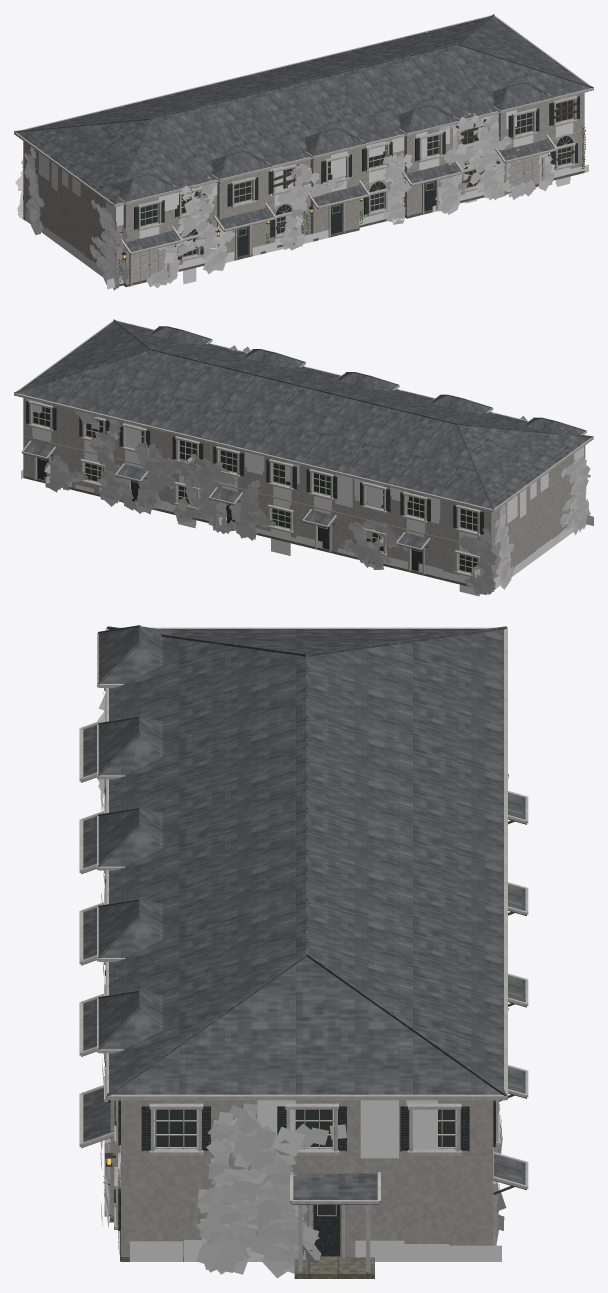
File: kit_row5_intact_v2.glb
The picture shows the model from 3 angles, top to bottom: view 1: azimuth 30°, elevation 25°; view 2: azimuth 150°, elevation 25°; view 3: azimuth 270°, elevation 25°; orthographic projection. The views are drawn at different scales.
Visible parts, largest first — view 1: kit_row5_intact_Ivy, Roof_Left_Shingled.002, Unit_01_Batched.001, Roof_Middle_Shingled.003, Roof_Middle_Shingled.004, Roof_Middle_Shingled.005, Roof_Right_Shingled.004, kit_row5_intact_Grime, Unit_03_Batched.001, Unit_02_Batched.001, Unit_02_Batched.002, Unit_RightEnd_Base_DamageReady_Batched.002 (+13 smaller); view 2: kit_row5_intact_Ivy, Roof_Left_Shingled.002, Unit_01_Batched.001, Roof_Middle_Shingled.003, Roof_Middle_Shingled.004, Roof_Middle_Shingled.005, Roof_Right_Shingled.004, kit_row5_intact_Grime, Unit_RightEnd_Base_DamageReady_Batched.002, Unit_02_Batched.001, Unit_03_Batched.001, Unit_02_Batched.002 (+10 smaller); view 3: Roof_Right_Shingled.004, Roof_Middle_Shingled.004, Roof_Middle_Shingled.003, Roof_Middle_Shingled.005, Unit_RightEnd_Base_DamageReady_Batched.002, Roof_Left_Shingled.002, kit_row5_intact_Ivy, kit_row5_intact_Grime, Right_Stucco_Frame.001_INTACT.002, Roof_Right_Eave_Trim.004, Projecting_Bay_Shingle_Cap.007, Projecting_Bay_Shingle_Cap.008 (+15 smaller).
Boxes of the visible parts, <box> form: kit_row5_intact_Ivy: <box>15,32,555,290</box>; Roof_Left_Shingled.002: <box>16,108,212,204</box>; Unit_01_Batched.001: <box>23,141,211,287</box>; Roof_Middle_Shingled.003: <box>114,85,306,180</box>; Roof_Middle_Shingled.004: <box>209,62,399,157</box>; Roof_Middle_Shingled.005: <box>302,39,493,134</box>; Roof_Right_Shingled.004: <box>396,16,590,111</box>; kit_row5_intact_Grime: <box>25,110,588,289</box>; Unit_03_Batched.001: <box>303,140,397,241</box>; Unit_02_Batched.001: <box>210,161,304,260</box>; Unit_02_Batched.002: <box>397,117,486,218</box>; Unit_RightEnd_Base_DamageReady_Batched.002: <box>495,102,557,194</box>; kit_row5_intact_Ivy: <box>44,345,590,594</box>; Roof_Left_Shingled.002: <box>395,413,590,508</box>; Unit_01_Batched.001: <box>396,446,590,587</box>; Roof_Middle_Shingled.003: <box>301,390,492,485</box>; Roof_Middle_Shingled.004: <box>208,367,399,462</box>; Roof_Middle_Shingled.005: <box>114,345,305,439</box>; Roof_Right_Shingled.004: <box>16,321,212,416</box>; kit_row5_intact_Grime: <box>21,398,593,596</box>; Unit_RightEnd_Base_DamageReady_Batched.002: <box>21,398,116,496</box>; Unit_02_Batched.001: <box>302,466,397,569</box>; Unit_03_Batched.001: <box>208,443,303,546</box>; Unit_02_Batched.002: <box>115,421,210,522</box>; Roof_Right_Shingled.004: <box>109,943,505,1094</box>; Roof_Middle_Shingled.004: <box>109,760,503,907</box>; Roof_Middle_Shingled.003: <box>109,669,503,815</box>; Roof_Middle_Shingled.005: <box>109,852,503,998</box>; Unit_RightEnd_Base_DamageReady_Batched.002: <box>79,1053,528,1278</box>; Roof_Left_Shingled.002: <box>109,629,503,724</box>; kit_row5_intact_Ivy: <box>97,692,509,1278</box>; kit_row5_intact_Grime: <box>130,1100,501,1261</box>; Right_Stucco_Frame.001_INTACT.002: <box>127,1100,225,1256</box>; Roof_Right_Eave_Trim.004: <box>106,941,507,1100</box>; Projecting_Bay_Shingle_Cap.007: <box>98,626,176,683</box>; Projecting_Bay_Shingle_Cap.008: <box>98,717,162,775</box>.
Size of the model in its own units: 39.23 by 9.71 by 15.36.
15 materials, 6 textured.
